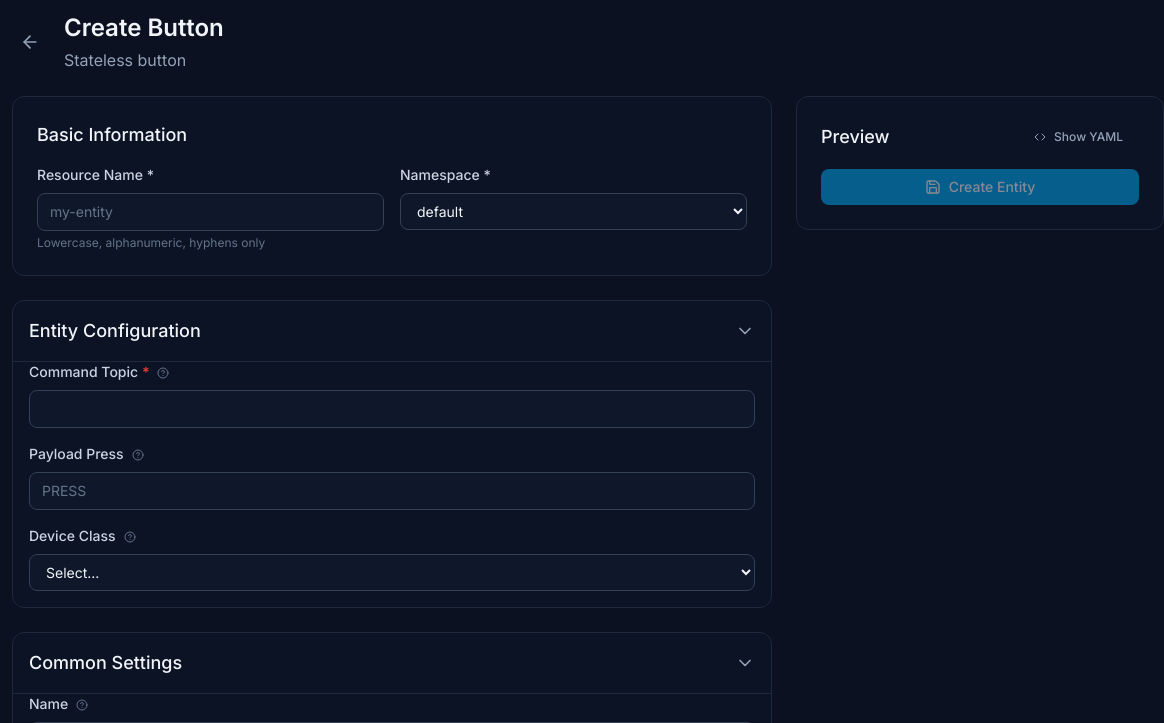
Test: EntityCreatePage › submit button › button is enabled when name is provided
This screenshot has width=1164, height=723.
Step 1. Type "test-button" into the field with placeholder "my-entity" → x=210, y=212, box [37,193,384,231]
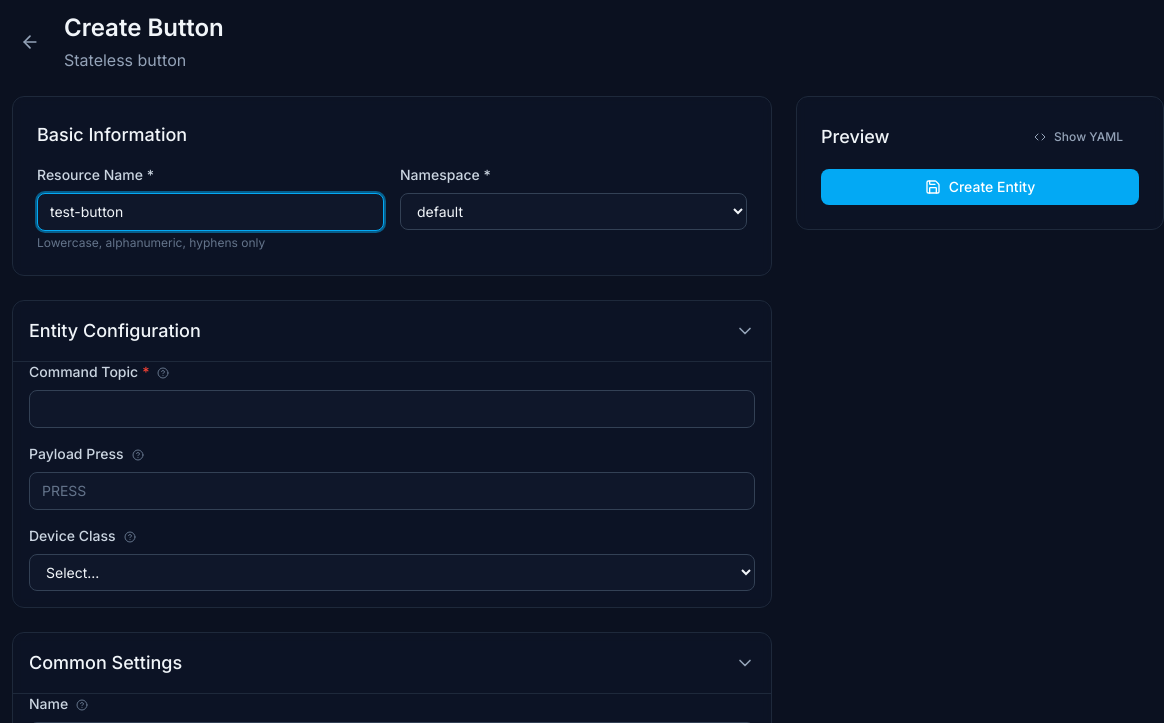
Expected: the button "Create Entity" is enabled, [821,169,1139,205]
